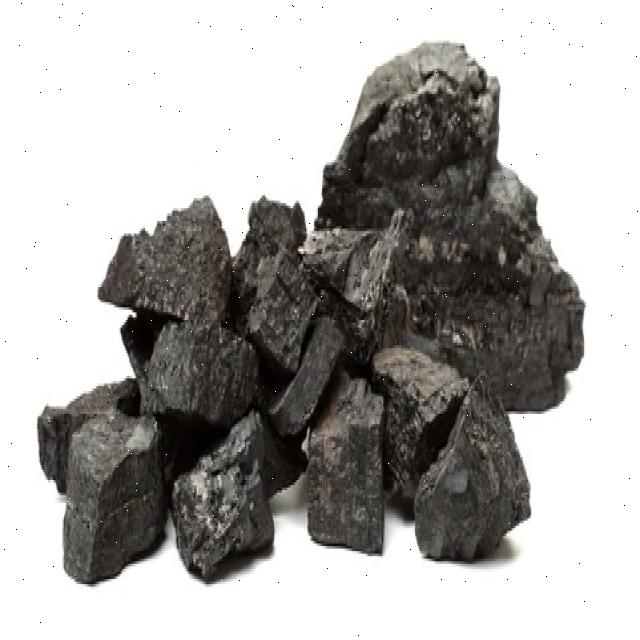Sedimentary: (32, 43, 597, 579)
